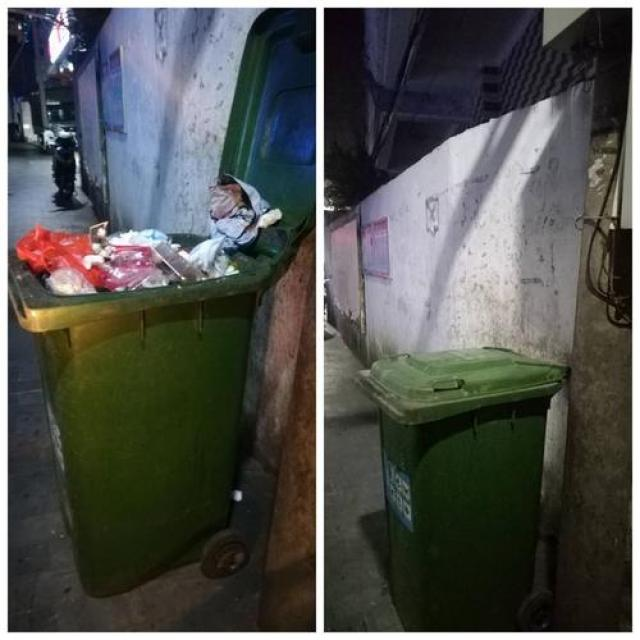garbage_bin: (354, 344, 568, 630)
overflow: (8, 172, 283, 598)
